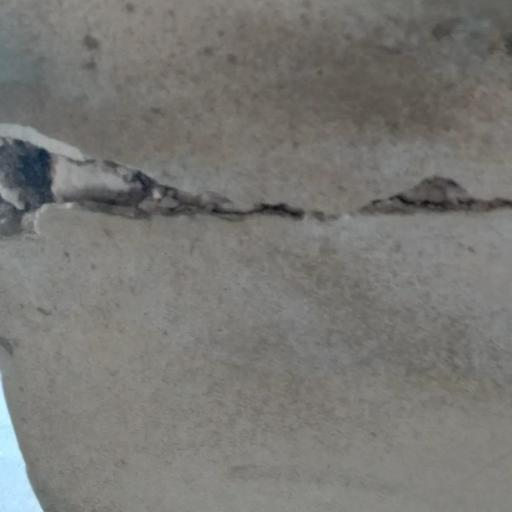major_crack: (0, 67, 512, 268)
